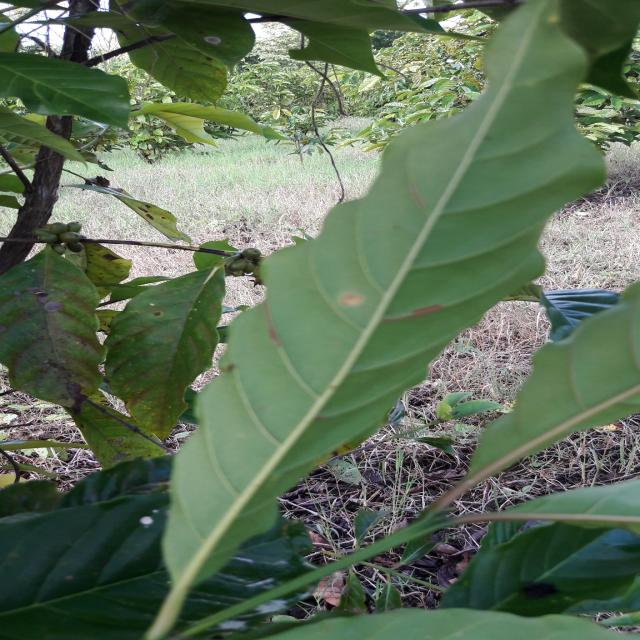Sanas: (159, 0, 609, 619)
